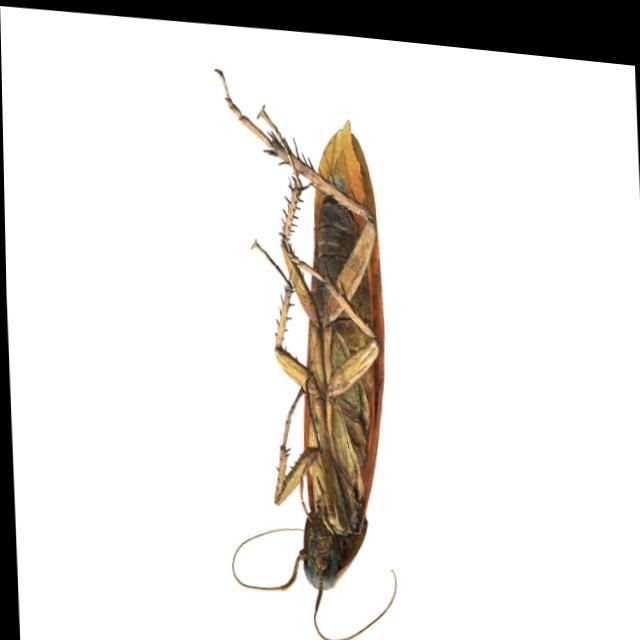Cockroach: (206, 46, 400, 640)
